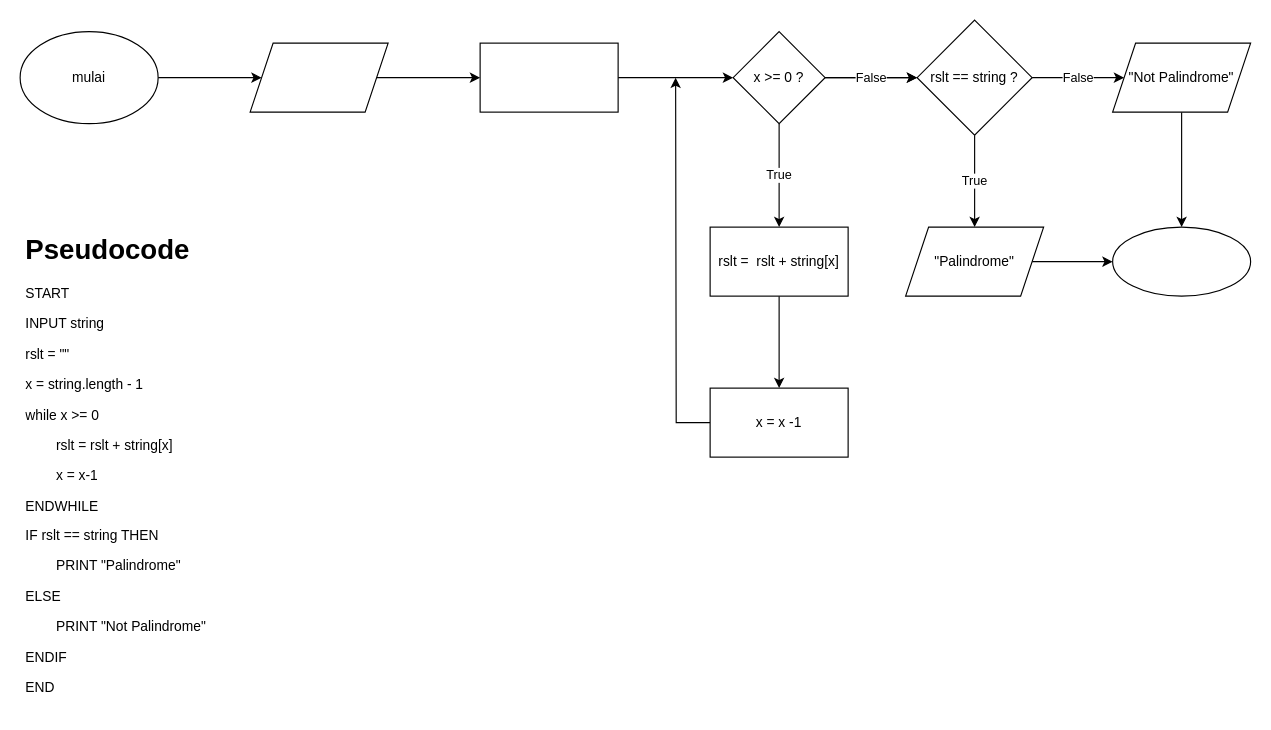
Image size: 1271x730. Some labels were removed from this diagram. Each missing label, with the box of its shape:
rslt = "" x = string.length - 1: (479, 42, 618, 112)
Selesai: (1111, 226, 1251, 296)
string: (249, 42, 388, 112)
